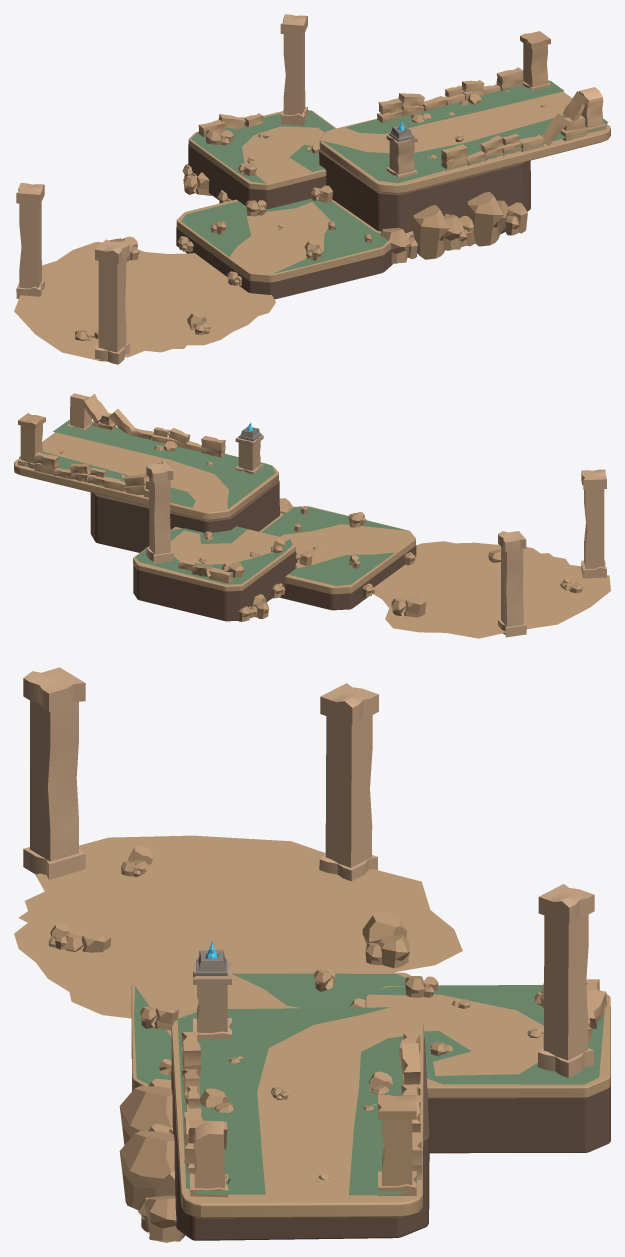
File: level_1_block_1.gltf
3 renders of one model, top to bottom at view 1: azimuth 30°, elevation 25°; view 2: azimuth 150°, elevation 25°; view 3: azimuth 270°, elevation 25°, orthographic. The views are drawn at different scales.
Visible parts, largest first — view 1: Shape 16, plat3, Cube (×6), Shape (×2), Shape 7, plat1, Shape 2 (×2), menhir_mini (×4), plat2, Shape 22, Shape 21, Cube 2 (×3); view 2: Shape 16, Cube (×6), plat3, Shape 2 (×2), Shape (×2), Shape 7, plat1, Shape 22, plat2, Cube 2 (×3), Shape 21, menhir_mini (+1 smaller); view 3: Shape 16, Cube (×6), plat3, Shape (×2), Shape 22, plat2, Shape 2, menhir_mini (×5), Shape 7, Cube 2 (×4), Shape 21, plat1 (+2 smaller).
Boxes of the visible parts, x1,y1,x2,y2 form: Shape 16: (14,242,275,360); plat3: (319,91,610,193); Cube (×6): (19,33,603,352); Shape (×2): (181,110,387,273); Shape 7: (319,149,530,233); plat1: (176,199,391,282); Shape 2 (×2): (176,144,392,299); menhir_mini (×4): (380,192,503,263); plat2: (188,110,335,189); Shape 22: (322,115,608,183); Shape 21: (346,80,563,133); Cube 2 (×3): (16,14,307,264); Shape 16: (374,541,610,638); Cube (×6): (20,393,604,626); plat3: (14,432,278,520); Shape 2 (×2): (133,545,416,621); Shape (×2): (135,506,406,585); Shape 7: (90,480,279,552); plat1: (259,506,415,593); Shape 22: (53,419,275,508); plat2: (133,527,295,591); Cube 2 (×3): (146,463,606,551); Shape 21: (19,451,195,507); menhir_mini: (404,593,426,617); Shape 16: (14,835,462,1018); Cube (×6): (30,700,588,1188); plat3: (171,1007,423,1218); Shape (×2): (134,973,604,1084); Shape 22: (177,1007,389,1194); plat2: (365,986,610,1098); Shape 2: (427,1006,610,1153); menhir_mini (×5): (119,912,409,1242); Shape 7: (171,1037,429,1240); Cube 2 (×4): (23,667,594,1119); Shape 21: (349,1036,416,1195); plat1: (131,972,410,1090).
Size of what is drawn, in the model's own units: 15.9 by 4.13 by 8.34.
